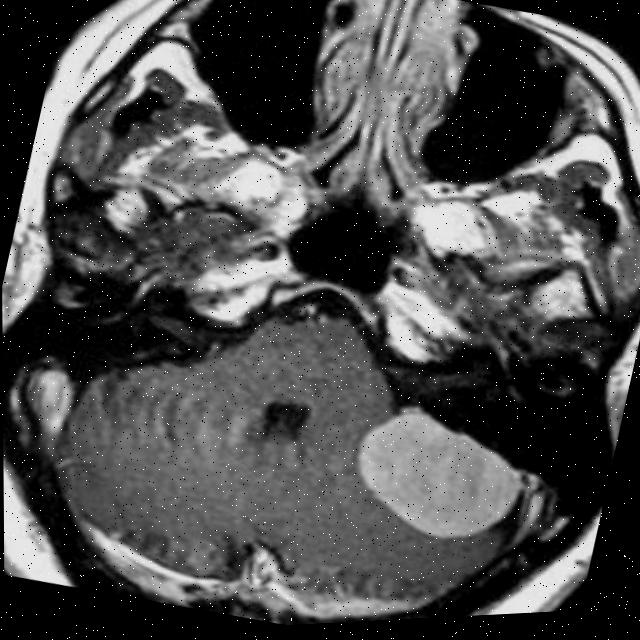Meningioma: (339, 388, 538, 562)
